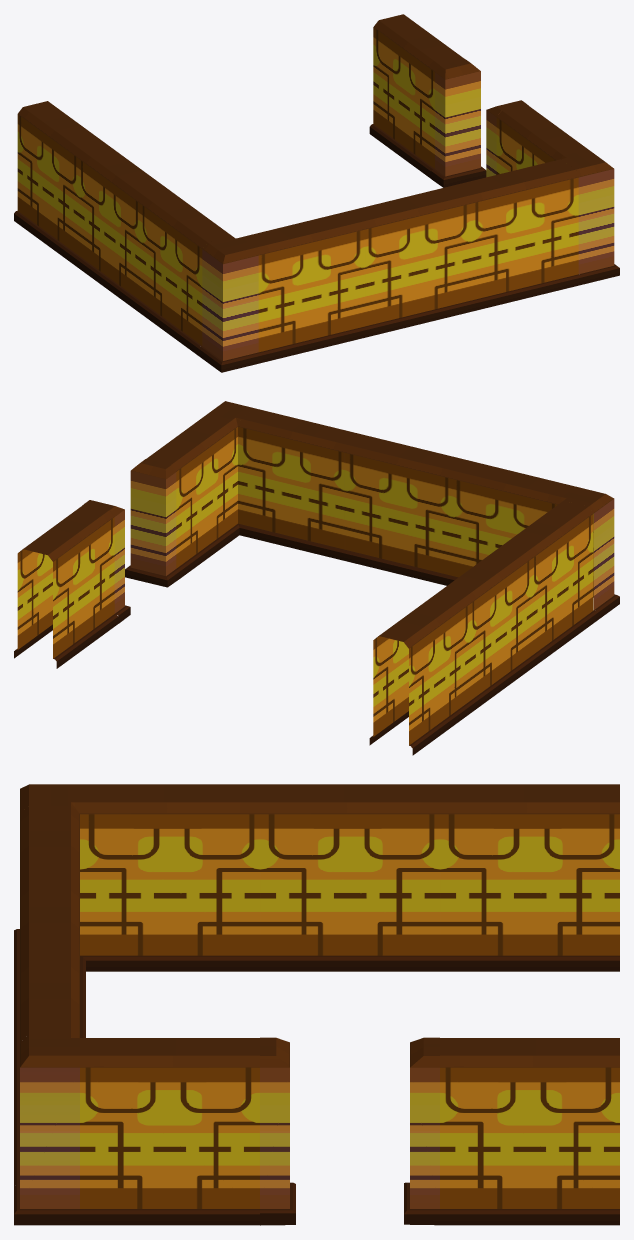
File: Wall_Living_New_v1.fbx
3 views of the same model, one above another, from view 1: azimuth 30°, elevation 25°; view 2: azimuth 150°, elevation 25°; view 3: azimuth 270°, elevation 25° (orthographic). The views are drawn at different scales.
Parts seen in each view (by area): view 1: Wall_Living_New_v1; view 2: Wall_Living_New_v1; view 3: Wall_Living_New_v1.
Part boxes in pixels (x1,y1,x2,y2): Wall_Living_New_v1: (14,14,619,372); Wall_Living_New_v1: (14,401,619,755); Wall_Living_New_v1: (14,784,619,1225).
Bounding box in the file's own units: 1120 × 300 × 1010.
